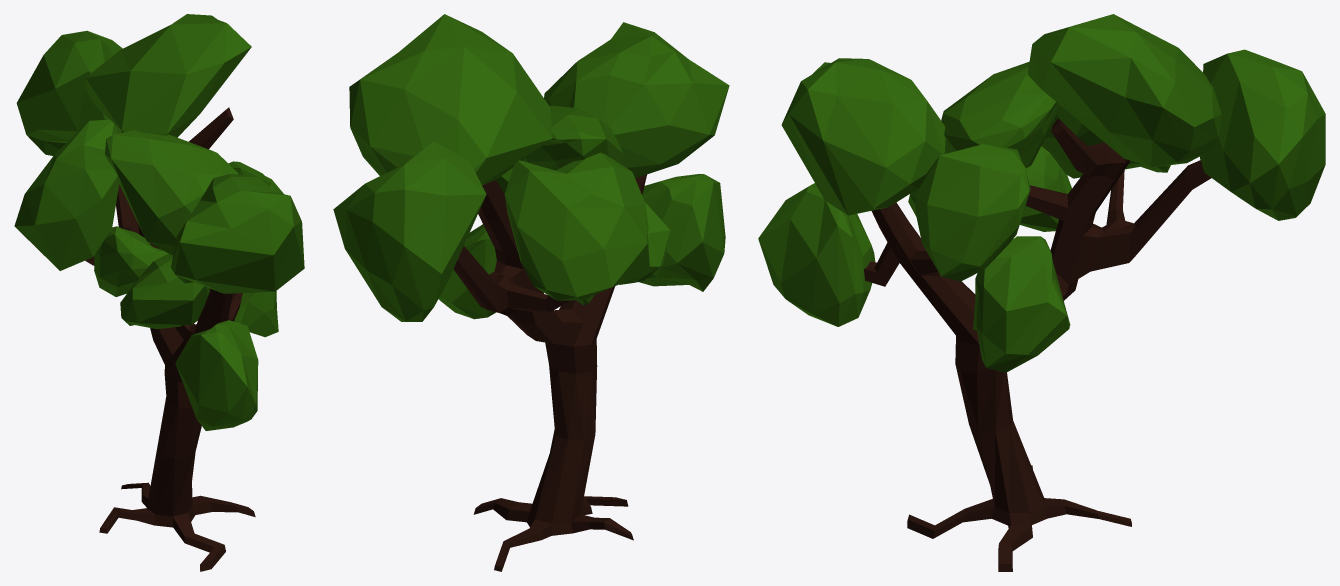
Rendered from t1-green.obj.
3 renders of one model, left to right at view 1: azimuth 30°, elevation 25°; view 2: azimuth 150°, elevation 25°; view 3: azimuth 270°, elevation 25°, orthographic. The views are drawn at different scales.
Parts seen in each view (by area): view 1: t1-green_Cylinder.002; view 2: t1-green_Cylinder.002; view 3: t1-green_Cylinder.002.
Boxes of the visible parts, box(x1,y1,x2,y2) form: t1-green_Cylinder.002: box(14, 14, 304, 571); t1-green_Cylinder.002: box(333, 14, 729, 571); t1-green_Cylinder.002: box(758, 14, 1325, 571).
Size of the model in its own units: 6.06 by 11.75 by 11.01.
